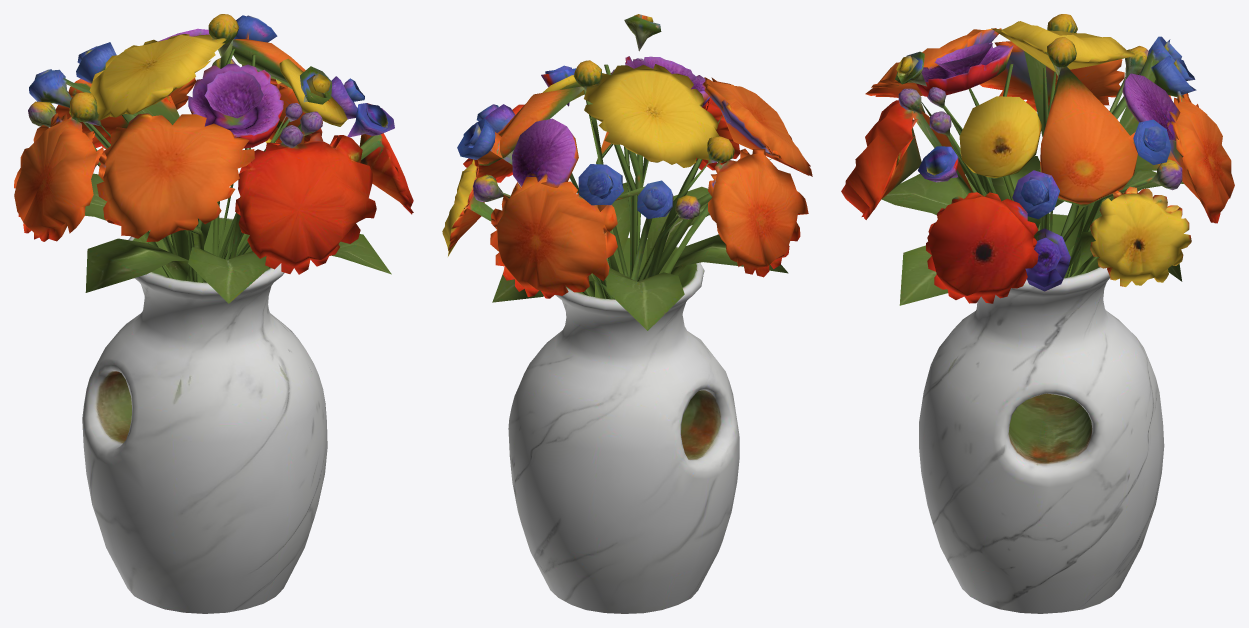
File: flower-vase.glb
3 views of the same model, side by side, from view 1: azimuth 30°, elevation 25°; view 2: azimuth 150°, elevation 25°; view 3: azimuth 270°, elevation 25° (orthographic). The views are drawn at different scales.
Visible parts, largest first — view 1: tripo_node_ce7d3e7d-c434-45e6-b19b-5b2b0c78d3c1; view 2: tripo_node_ce7d3e7d-c434-45e6-b19b-5b2b0c78d3c1; view 3: tripo_node_ce7d3e7d-c434-45e6-b19b-5b2b0c78d3c1.
Boxes of the visible parts, left/top/right/bottom form: tripo_node_ce7d3e7d-c434-45e6-b19b-5b2b0c78d3c1: left=14, top=14, right=413, bottom=613; tripo_node_ce7d3e7d-c434-45e6-b19b-5b2b0c78d3c1: left=442, top=14, right=812, bottom=613; tripo_node_ce7d3e7d-c434-45e6-b19b-5b2b0c78d3c1: left=841, top=14, right=1234, bottom=613.
Size of the model in its own units: 0.6699 by 0.998 by 0.6426.
Materials: 1 (1 with a texture image).
